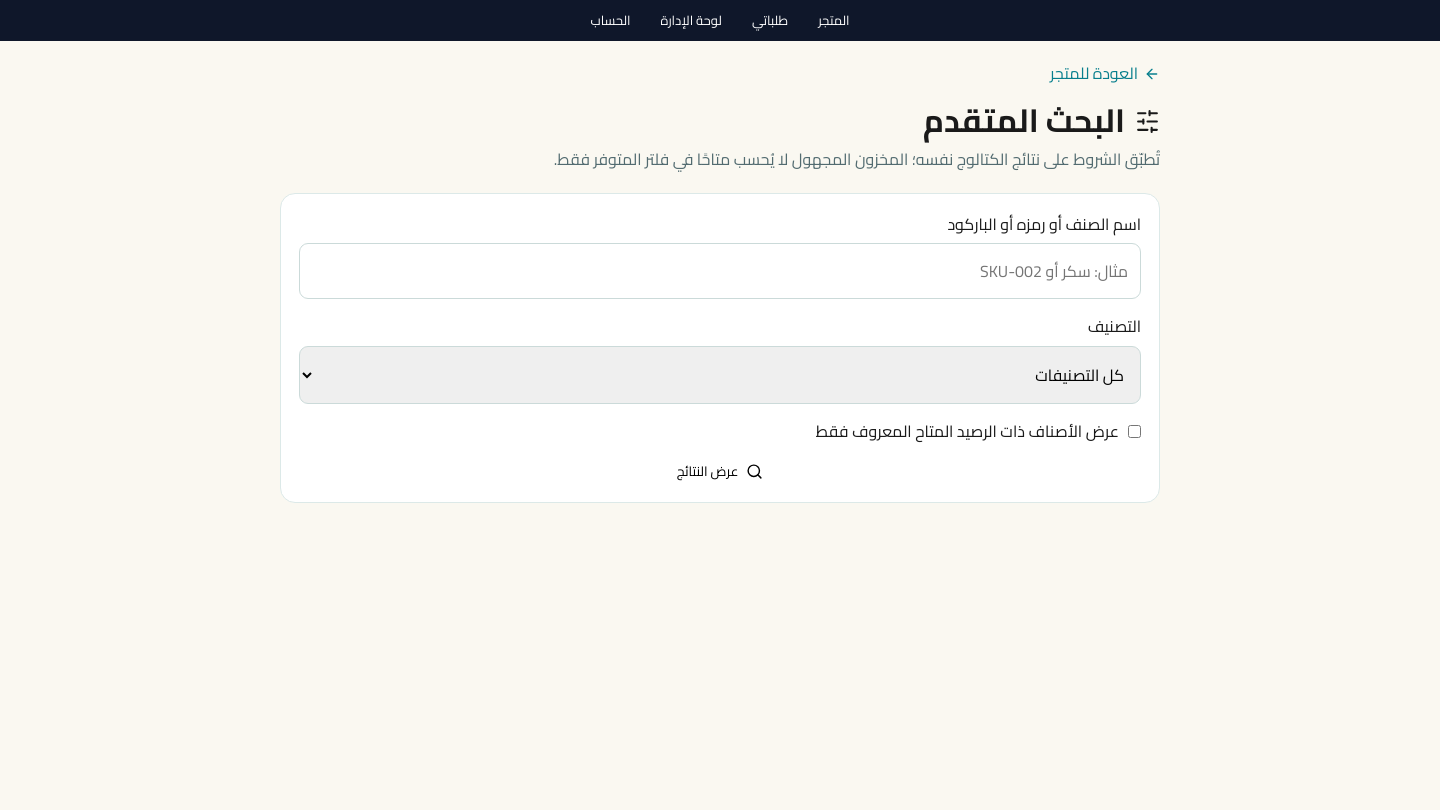
Test: customer storefront saved discovery › keeps only products with known positive availability and lets the user clear that filter
This screenshot has width=1440, height=810.
Step 1. Click the checkbox labelled "عرض الأصناف ذات الرصيد المتاح المعروف فقط" → (1134, 432), box [1128,425,1141,438]
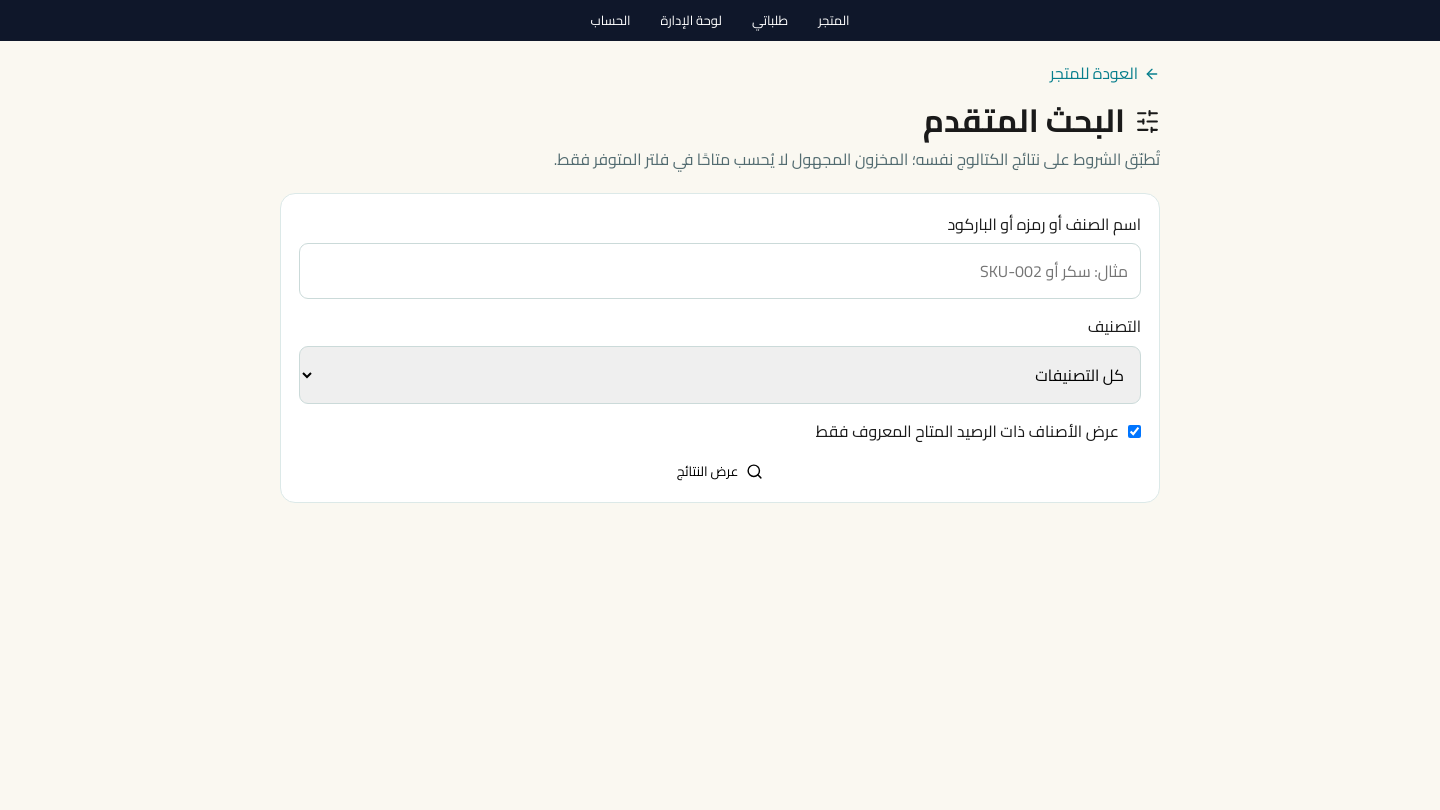
Step 2. Submit the form, box [280,193,1160,503]
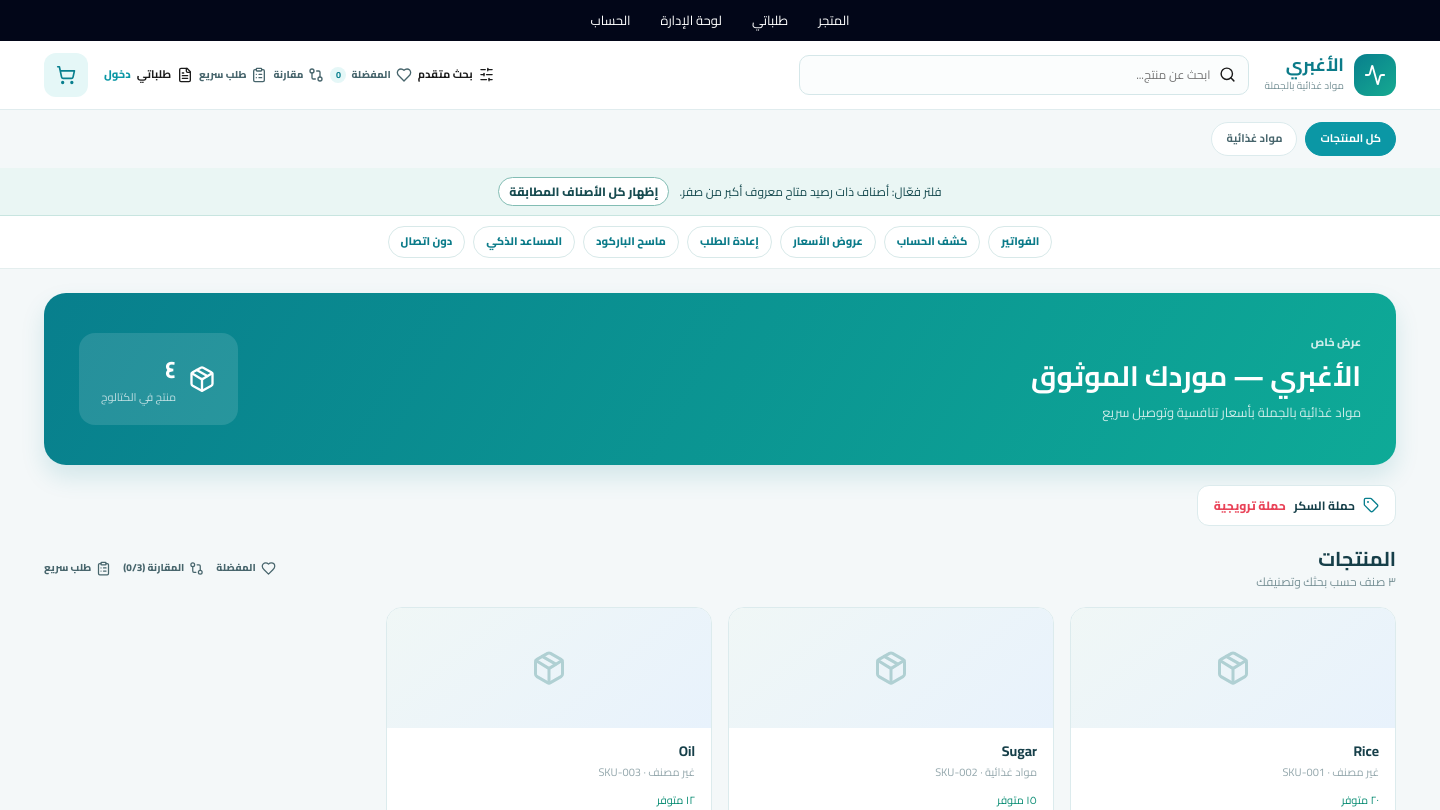
Check: the text "فلتر فعّال" is shown, box [679,180,942,203]
Check: the text "Rice" is shown, box [1353,738,1379,764]
Check: the text "Sugar" is shown, box [1002,738,1037,764]
Step 3. Click the button with aria-label "إلغاء فلتر المتوفر فقط" → (584, 191), box [498,177,670,206]
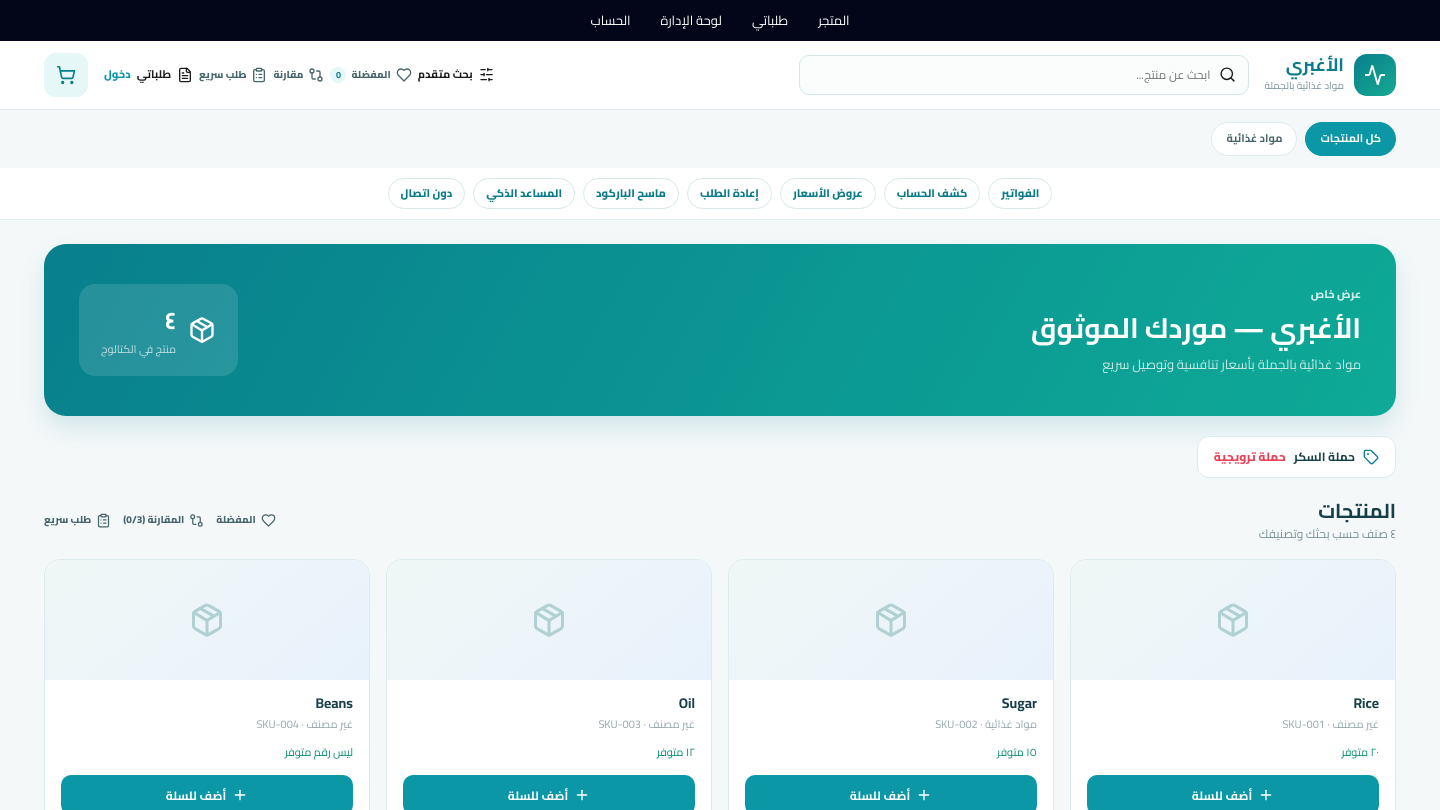
Check: the text "فلتر فعّال" is gone
Check: the text "Beans" is shown, box [315,690,353,716]
